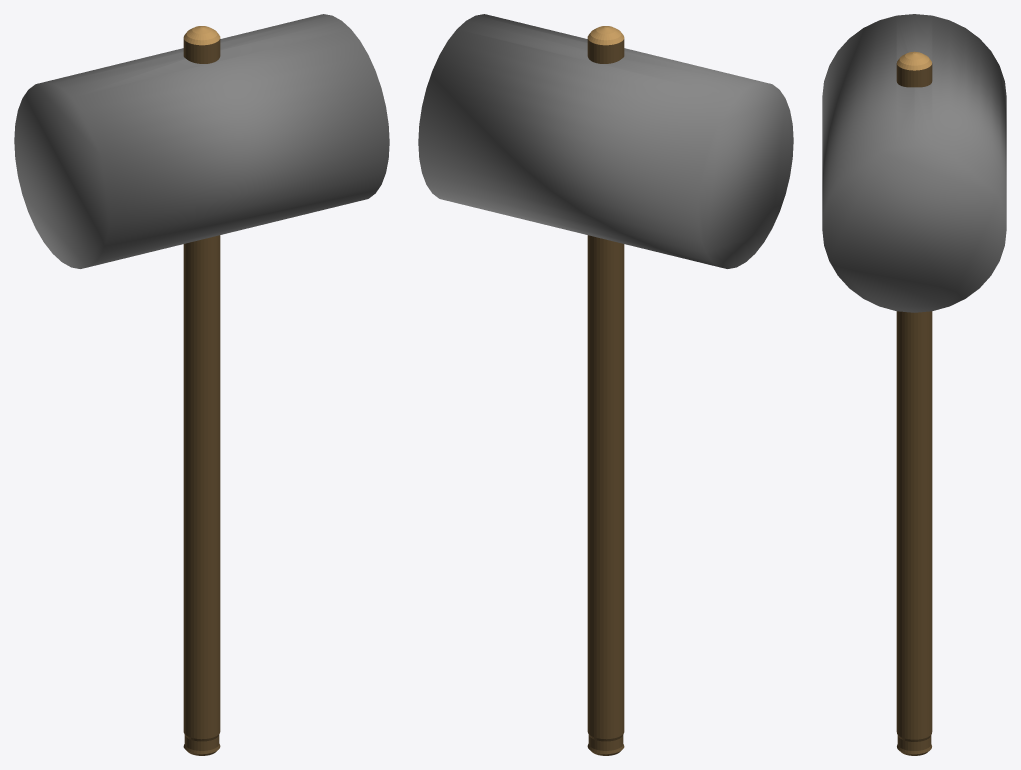
File: big_mallet.glb
3 views of the same model, side by side, from view 1: azimuth 30°, elevation 25°; view 2: azimuth 150°, elevation 25°; view 3: azimuth 270°, elevation 25° (orthographic). The views are drawn at different scales.
Parts seen in each view (by area): view 1: Mallet, Stick; view 2: Mallet, Stick; view 3: Mallet, Stick.
Part boxes in pixels (x1,y1,x2,y2): Mallet: (14,14,389,268); Stick: (183,26,220,755); Mallet: (418,14,793,268); Stick: (587,26,624,755); Mallet: (822,14,1006,312); Stick: (896,51,932,755).
Bounding box in the file's own units: 0.274 × 0.6759 × 0.1623.
